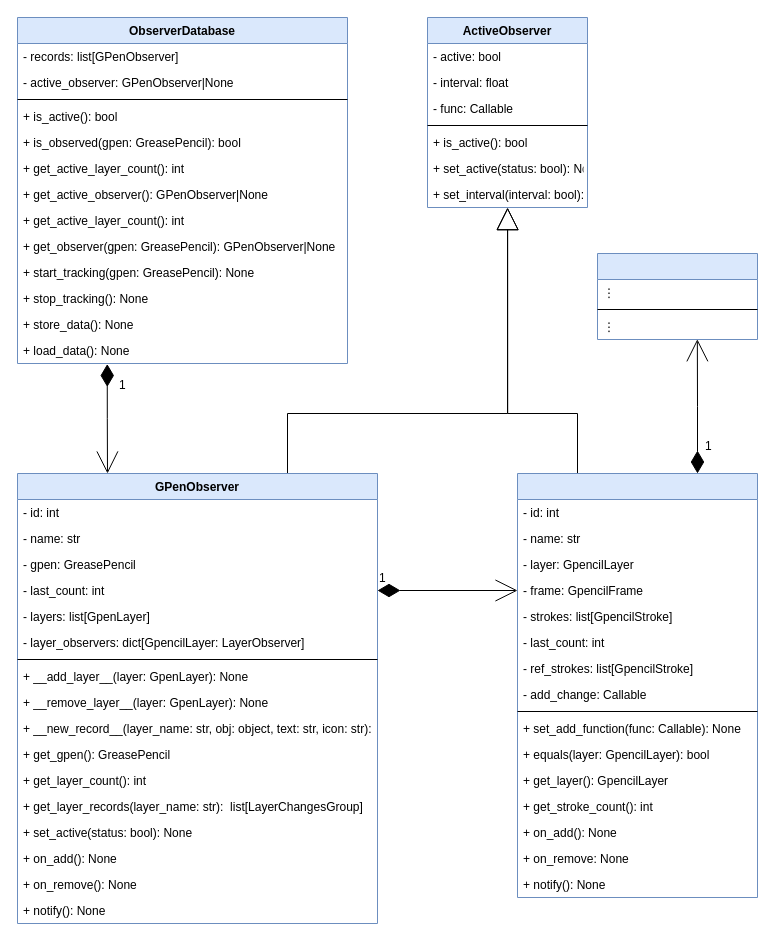
This 775x944 diagram has some shape labels left out. Here are the shapes that lost their labels. From the top down, the box of each, then its label:
(596, 252, 758, 340): StrokeObserver
(516, 472, 758, 898): LayerObserver
